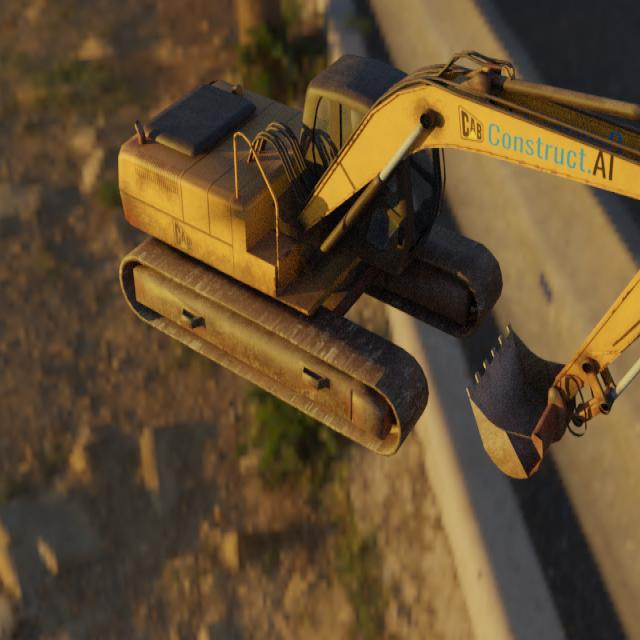excavator: (118, 49, 640, 479)
